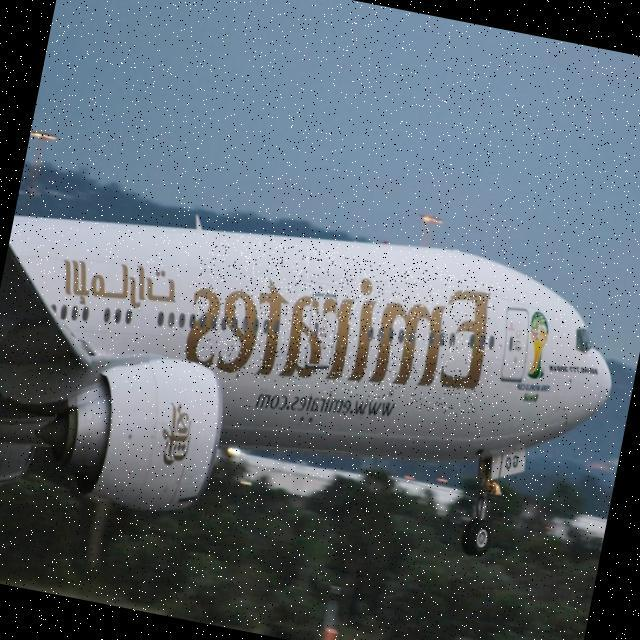Emirates: (181, 228, 499, 421)
